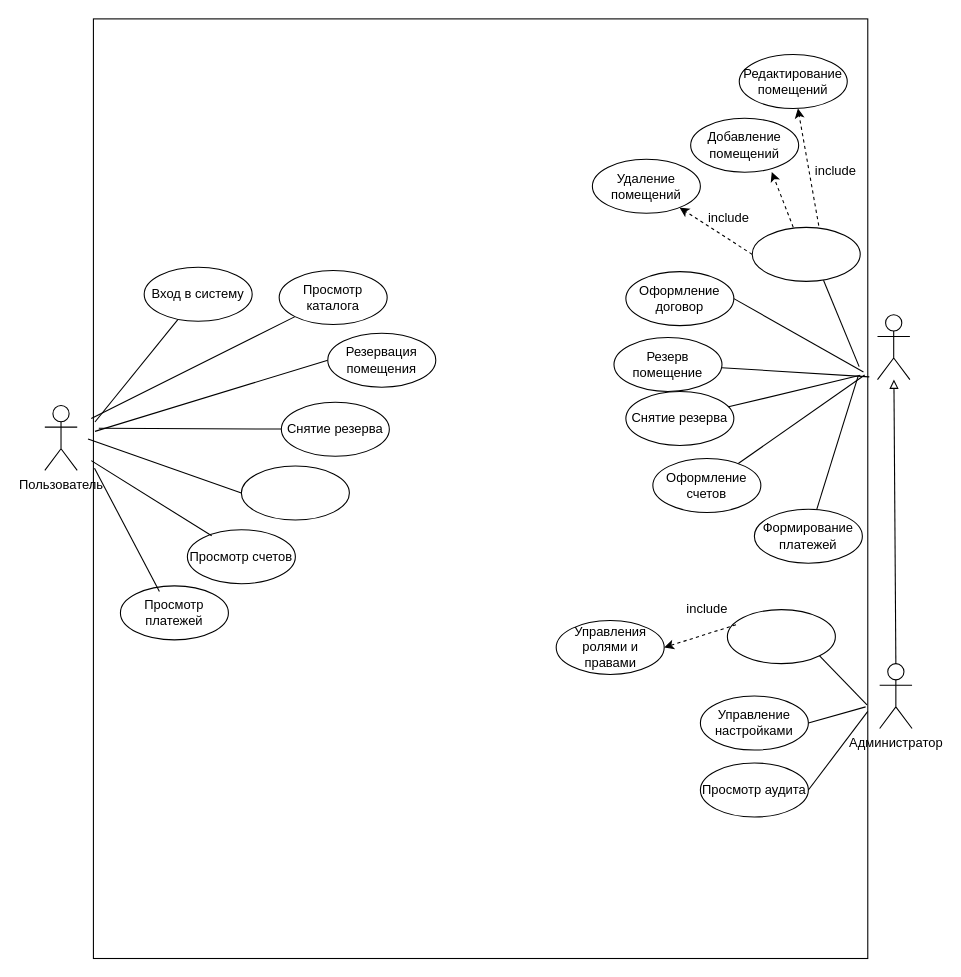
Some shapes in this 961 by 977 pixel diagram are drawn without their labels. Each missing label, with the box of its shape:
Бугхалтер: (876, 314, 910, 380)
Просмотр договоров: (240, 465, 349, 520)
Управление катологом помещений: (751, 226, 860, 281)
Управление пользователями: (726, 609, 835, 664)
